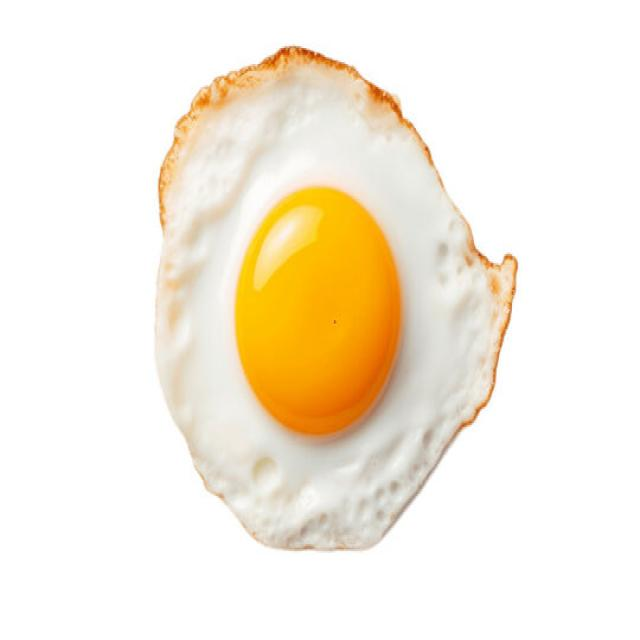Egg: (156, 49, 516, 549)
